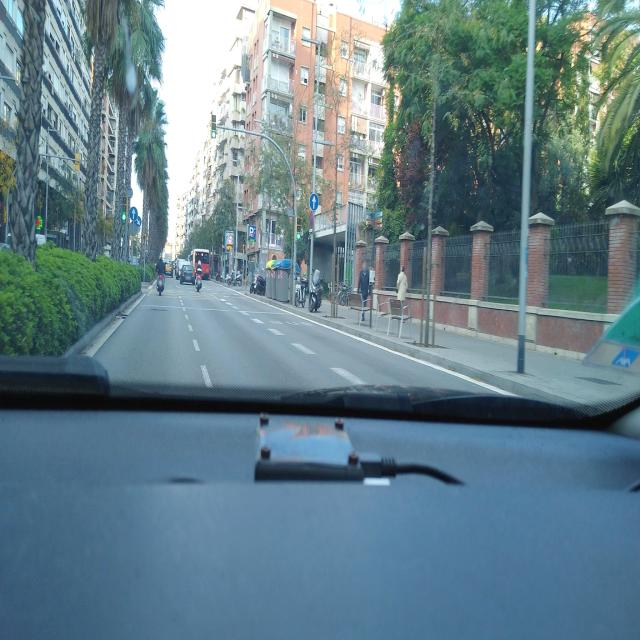bike: (308, 269, 324, 313), (294, 271, 306, 308), (336, 281, 351, 306), (249, 273, 266, 294), (226, 269, 243, 289), (196, 268, 203, 295)
car: (180, 262, 196, 285)
